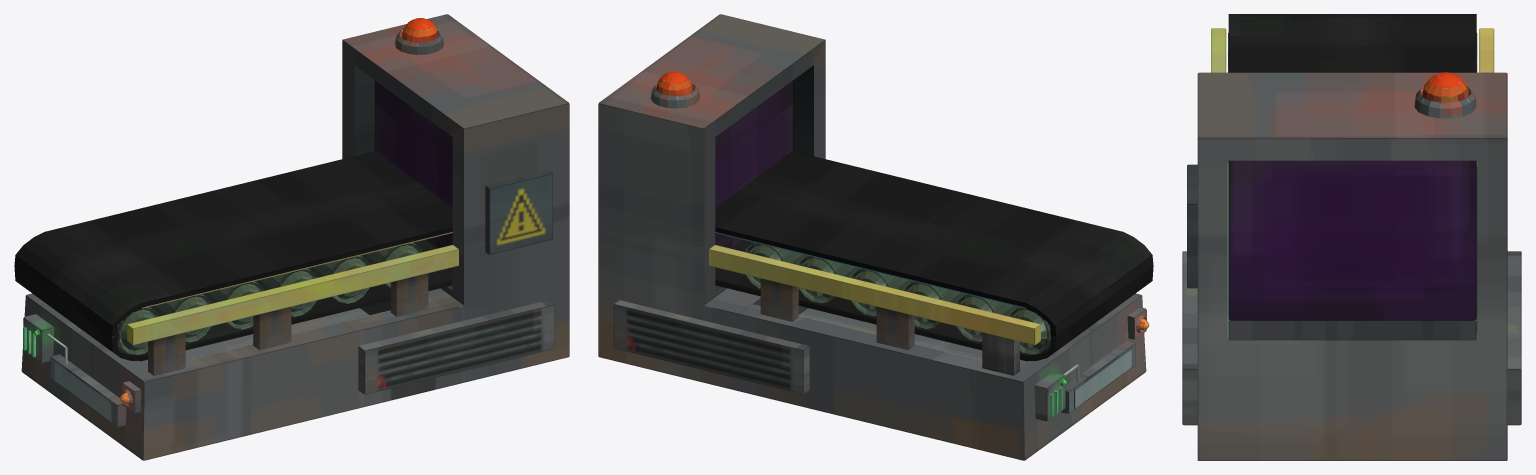
Rendered from Conveyor_Belt_End.fbx.
The picture shows the model from 3 angles, left to right: view 1: azimuth 30°, elevation 25°; view 2: azimuth 150°, elevation 25°; view 3: azimuth 270°, elevation 25°; orthographic projection. The views are drawn at different scales.
Parts seen in each view (by area): view 1: cuboid_9, cuboid, cuboid_18, cuboid_2, cuboid_19, cuboid_1, cuboid_11, cuboid_6, cuboid_21, cuboid_4, cuboid_10, cylinder_4 (+7 smaller); view 2: cuboid_9, cuboid, cuboid_20, cuboid_3, cuboid_1, cuboid_11, cuboid_8, cuboid_7, cuboid_5, cuboid_10, cylinder_4, cylinder_5 (+6 smaller); view 3: cuboid_9, cuboid, cuboid_20, cuboid_18, cuboid_19, sphere, torus, cuboid_2, cuboid_3.
Part boxes in pixels (bbox=[...]): cuboid_9: bbox=[21, 14, 569, 460]; cuboid: bbox=[14, 151, 452, 337]; cuboid_18: bbox=[358, 300, 554, 394]; cuboid_2: bbox=[127, 245, 458, 344]; cuboid_19: bbox=[485, 170, 552, 254]; cuboid_1: bbox=[14, 239, 452, 361]; cuboid_11: bbox=[50, 354, 126, 426]; cuboid_6: bbox=[253, 307, 291, 350]; cuboid_21: bbox=[390, 273, 428, 316]; cuboid_4: bbox=[148, 332, 185, 375]; cuboid_10: bbox=[23, 314, 54, 363]; cylinder_4: bbox=[308, 255, 369, 303]; cuboid_9: bbox=[598, 14, 1146, 460]; cuboid: bbox=[715, 151, 1153, 337]; cuboid_20: bbox=[613, 300, 809, 394]; cuboid_3: bbox=[709, 245, 1040, 344]; cuboid_1: bbox=[715, 239, 1153, 361]; cuboid_11: bbox=[1061, 340, 1135, 413]; cuboid_8: bbox=[760, 278, 798, 321]; cuboid_7: bbox=[876, 307, 914, 350]; cuboid_5: bbox=[982, 332, 1019, 375]; cuboid_10: bbox=[1034, 372, 1065, 421]; cylinder_4: bbox=[798, 255, 859, 303]; cylinder_5: bbox=[903, 281, 964, 329]; cuboid_9: bbox=[1197, 72, 1507, 460]; cuboid: bbox=[1228, 14, 1476, 72]; cuboid_20: bbox=[1475, 251, 1521, 425]; cuboid_18: bbox=[1182, 251, 1229, 425]; cuboid_19: bbox=[1187, 164, 1197, 288]; sphere: bbox=[1422, 72, 1468, 106]; torus: bbox=[1414, 86, 1476, 118]; cuboid_2: bbox=[1211, 28, 1226, 72]; cuboid_3: bbox=[1479, 28, 1494, 72].
Size of the model in its own units: 264 by 158 by 137.
Materials: 6 (6 with a texture image).
